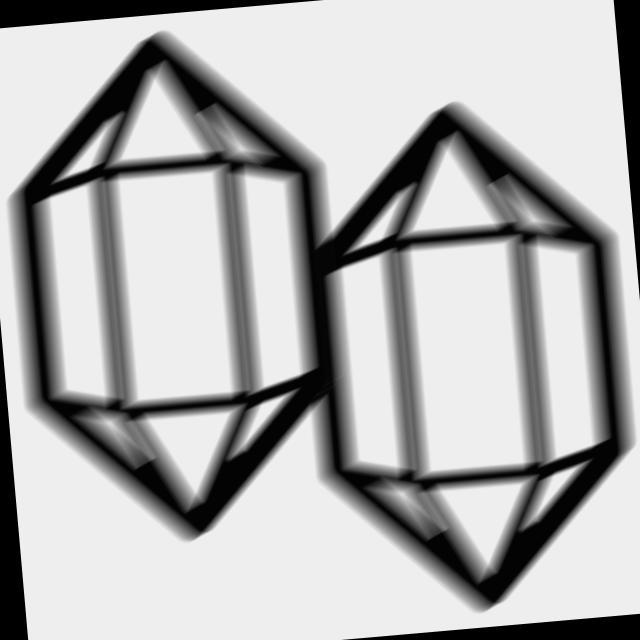crystal: (1, 10, 369, 562), (277, 75, 640, 630)
